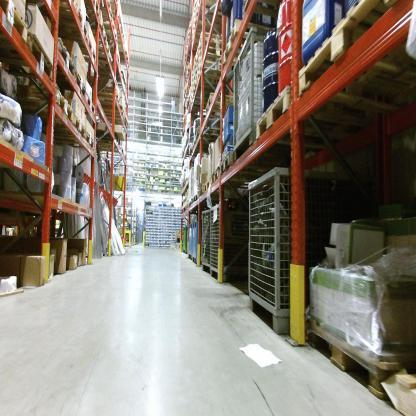pallets: (249, 0, 391, 138), (306, 320, 405, 405), (201, 129, 259, 192), (50, 82, 99, 148), (53, 0, 94, 55)
